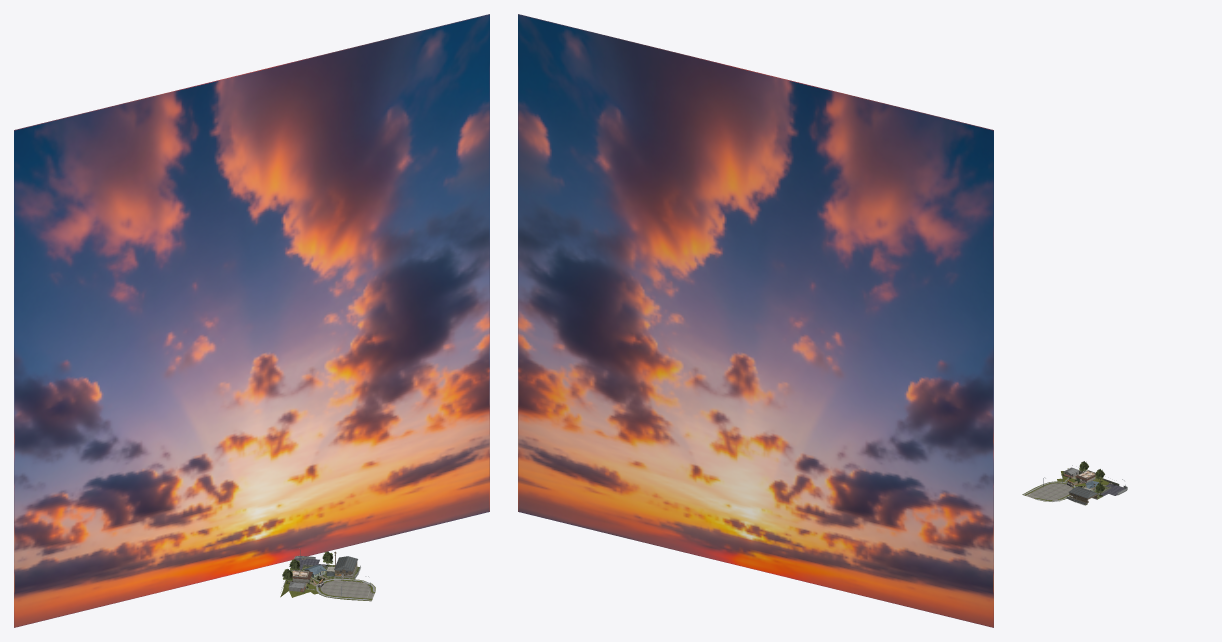
File: GroveStreet.glb
3 renders of one model, left to right at view 1: azimuth 30°, elevation 25°; view 2: azimuth 150°, elevation 25°; view 3: azimuth 270°, elevation 25°, orthographic. The views are drawn at different scales.
Visible parts, largest first — view 1: Plane, Grove Street.1200; view 2: Plane; view 3: Grove Street.1200, Grove Street.836.
Part boxes in pixels (x1,y1,x2,y2): Plane: [14, 14, 489, 627]; Grove Street.1200: [321, 581, 373, 598]; Plane: [518, 14, 993, 627]; Grove Street.1200: [1027, 483, 1072, 499]; Grove Street.836: [1022, 481, 1076, 501].
Size of the model in its own units: 685 by 685 by 275.
982 materials, 981 textured.
